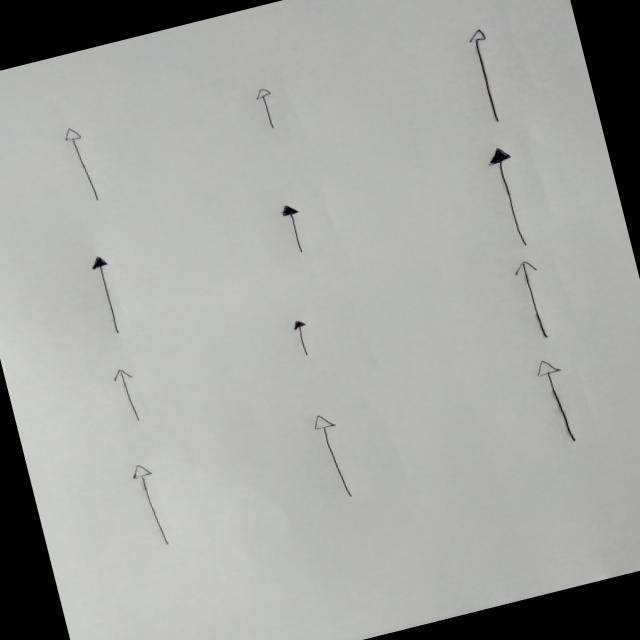arrow_line_up: (483, 143, 535, 251), (464, 25, 512, 126), (532, 354, 583, 448), (310, 409, 360, 503), (127, 460, 174, 551), (510, 258, 554, 344), (59, 122, 103, 205), (87, 252, 127, 338), (109, 364, 146, 424), (276, 200, 312, 256), (252, 84, 280, 132), (290, 317, 314, 360)
